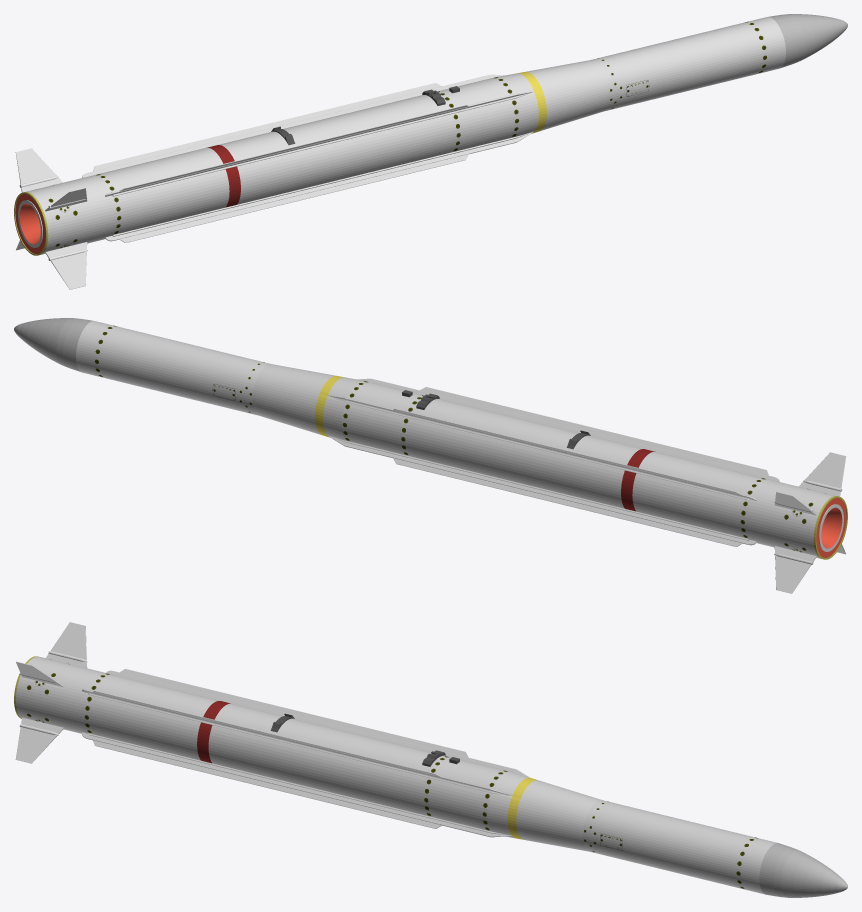
File: ESSM-RIM-162_SH.fbx
The picture shows the model from 3 angles, top to bottom: view 1: azimuth 30°, elevation 25°; view 2: azimuth 150°, elevation 25°; view 3: azimuth 330°, elevation 25°; orthographic projection.
Parts seen in each view (by area): view 1: RIM-169body, b, c; view 2: RIM-169body, a, d; view 3: RIM-169body, b, c.
Part boxes in pixels (x1=…): RIM-169body: x1=14, y1=14, x2=847, y2=257; b: x1=48, y1=249, x2=87, y2=289; c: x1=15, y1=148, x2=58, y2=187; RIM-169body: x1=14, y1=318, x2=847, y2=561; a: x1=774, y1=553, x2=813, y2=593; d: x1=803, y1=452, x2=846, y2=491; RIM-169body: x1=14, y1=653, x2=847, y2=897; b: x1=15, y1=724, x2=58, y2=763; c: x1=48, y1=622, x2=87, y2=661.
Bounding box in the file's own units: 364 × 41.85 × 41.85.
